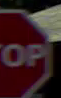Stop: (0, 6, 47, 97)
